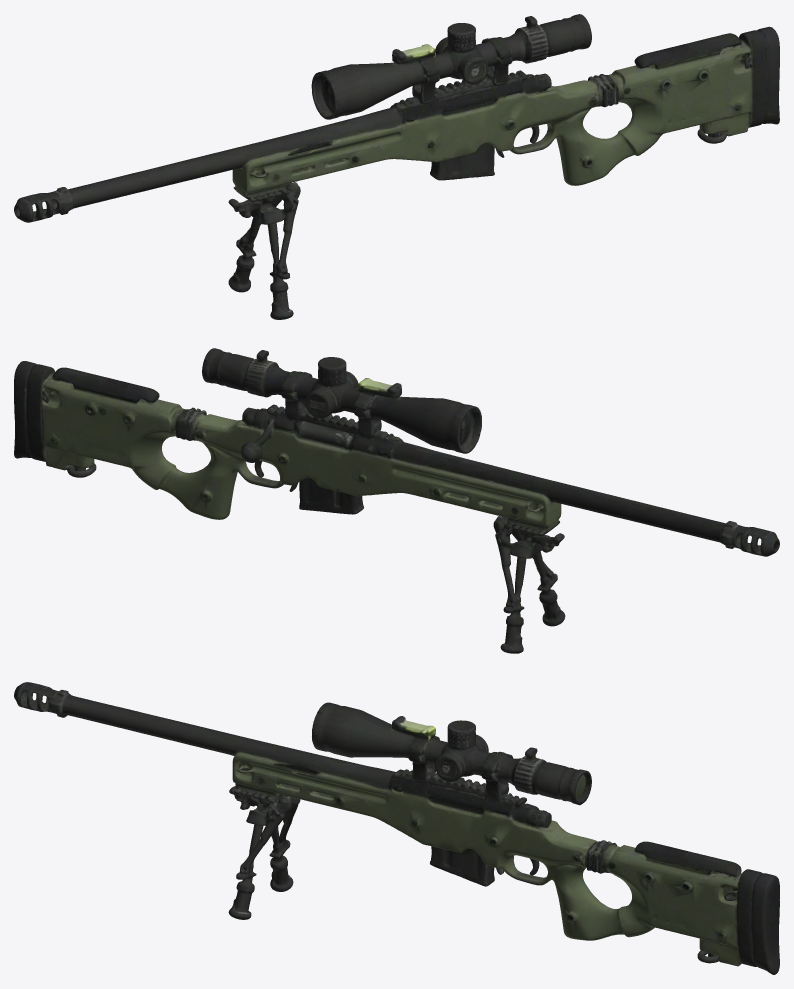
Rendered from sniper.glb.
3 renders of one model, top to bottom at view 1: azimuth 30°, elevation 25°; view 2: azimuth 150°, elevation 25°; view 3: azimuth 330°, elevation 25°, orthographic.
Size of the model in its own units: 1.9 by 0.5438 by 0.2298.
Materials: 1 (1 with a texture image).
